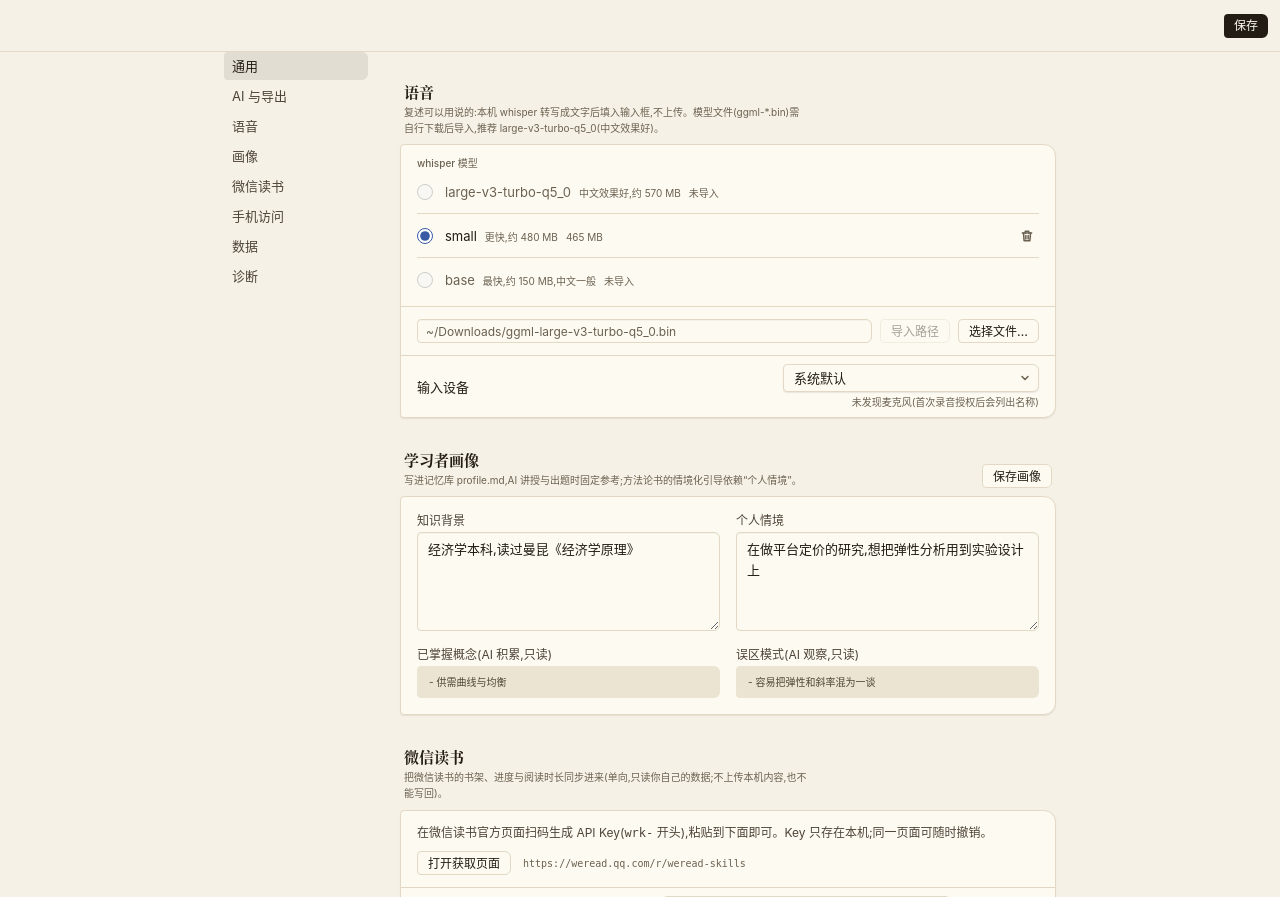
Test: 设置页 · 学习者画像(M2 T6) › 画像保存失败显示错误并可重试
(page scrolled)
Expected: the text box labelled "个人情境" is shown, [736,532,1039,631]
Click the button "保存画像": [1017, 476] box [982,464,1052,488]
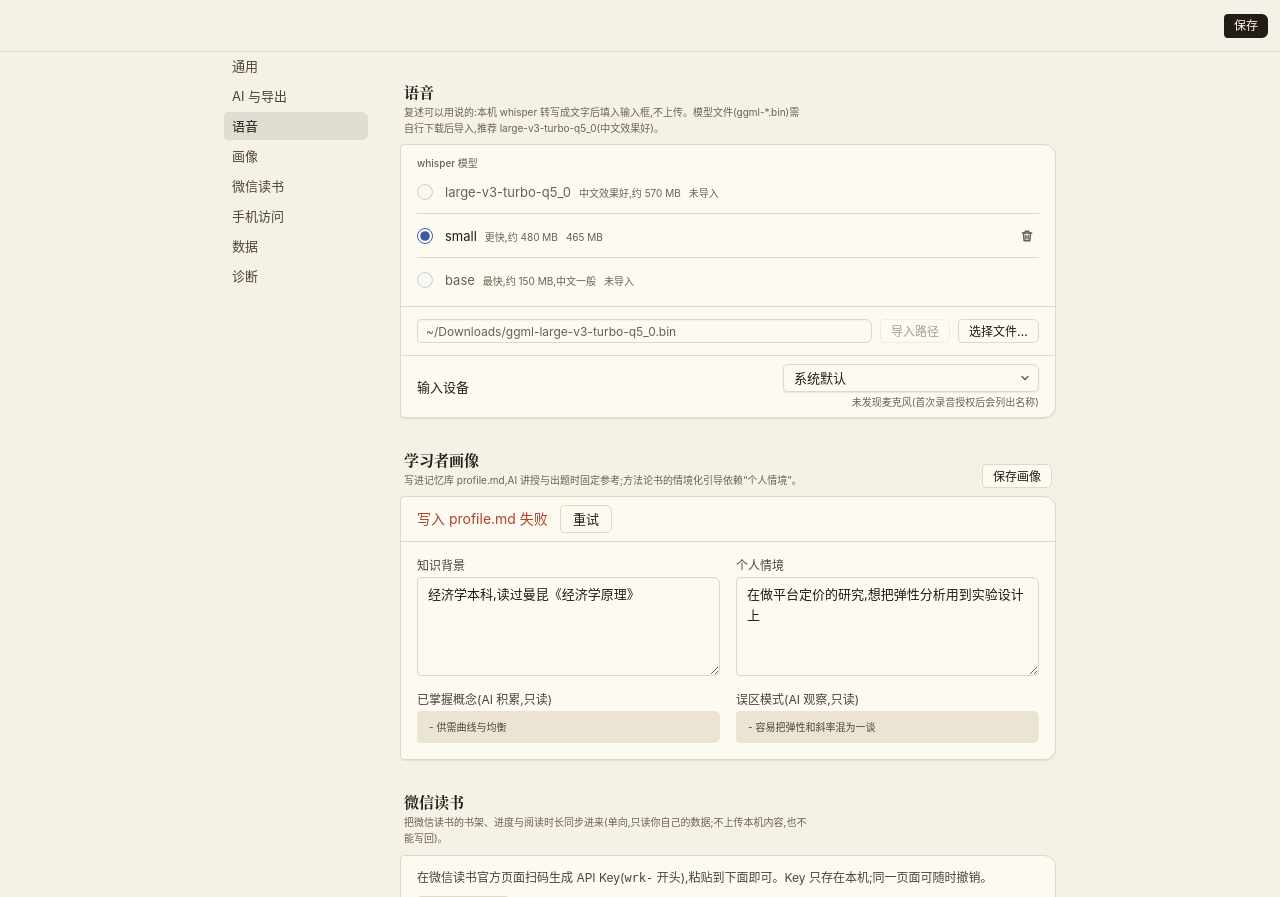
Expected: the text "写入 profile.md 失败" is shown, [417,510,548,527]
Click the button "重试": [586, 519] box [560,505,612,533]
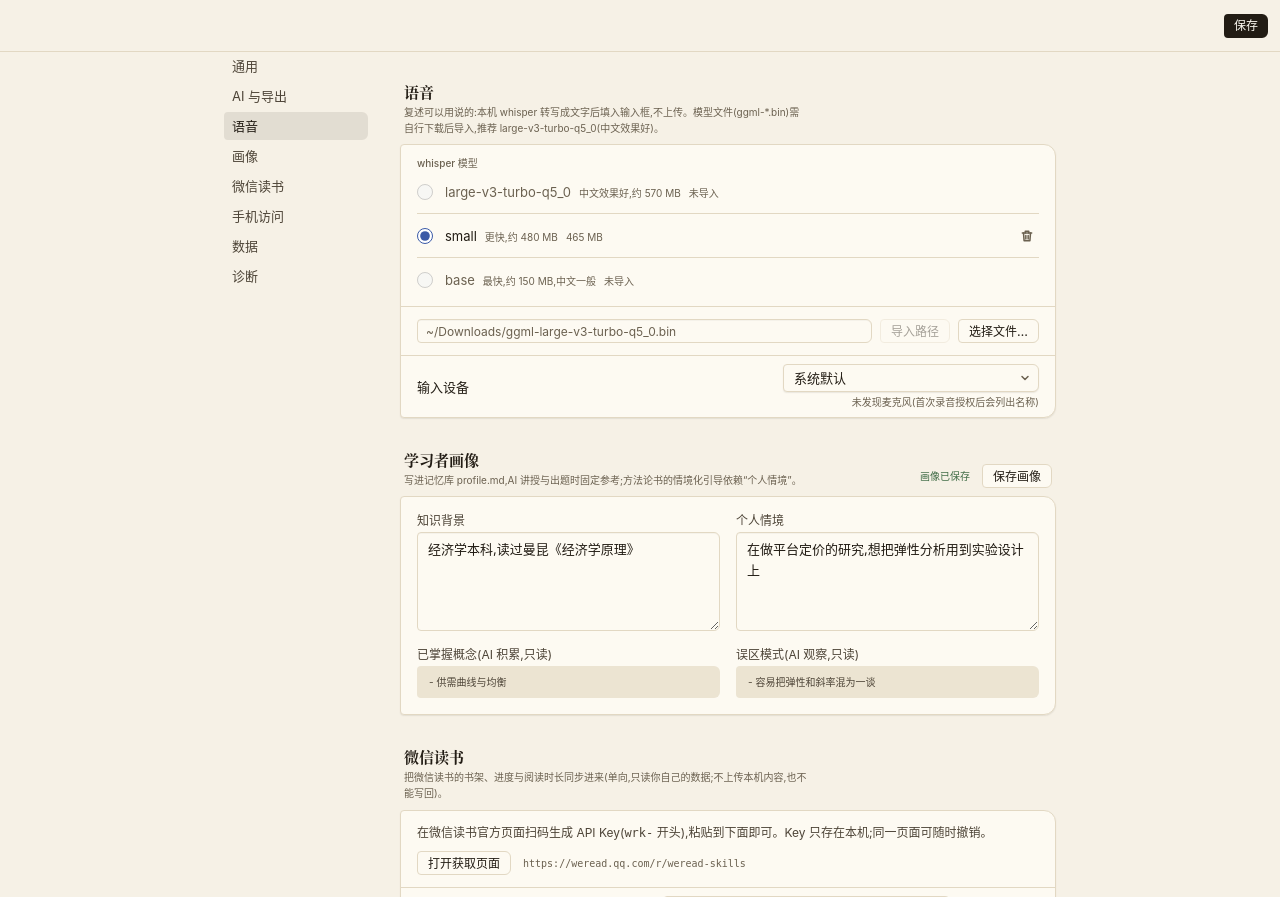
Expected: the text "画像已保存" is shown, [920,470,970,483]
Expected: the text "写入 profile.md 失败" is gone
